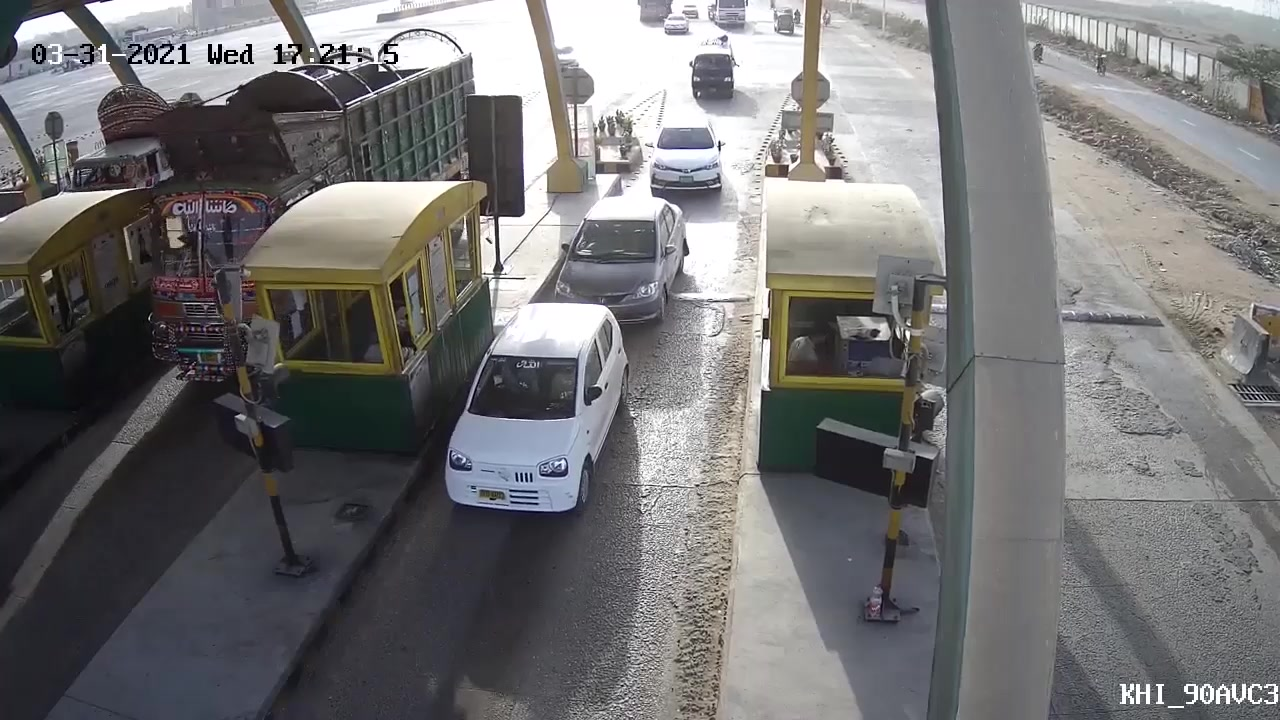F1: (412, 299, 633, 551), (544, 189, 694, 328)
